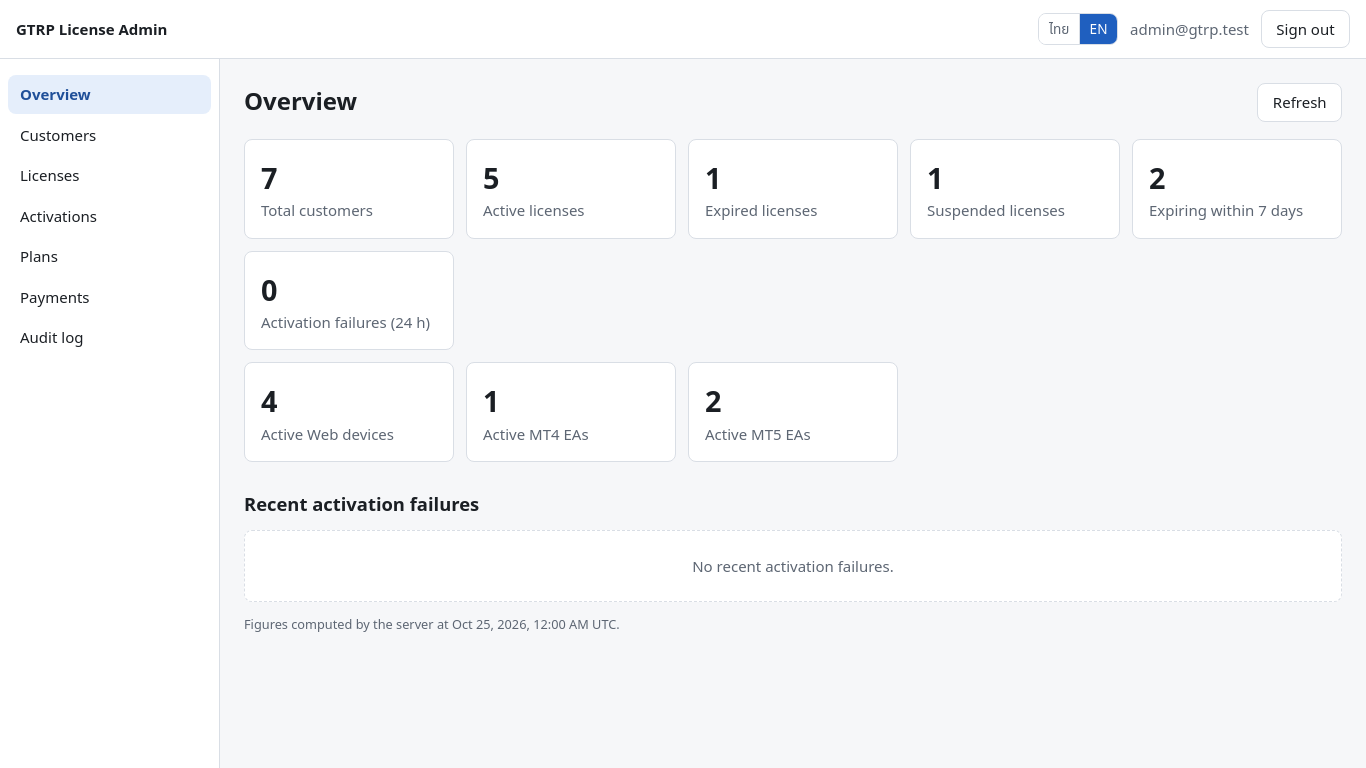
language switcher › switches the whole dashboard between English and Thai and remembers the choice
Expected: the heading "Overview" is shown, [244, 83, 357, 119]
Expected: the text "Total customers" is shown, [261, 200, 373, 220]
Step 1. Click the button "ไทย" → click(1059, 29), box [1039, 14, 1079, 44]
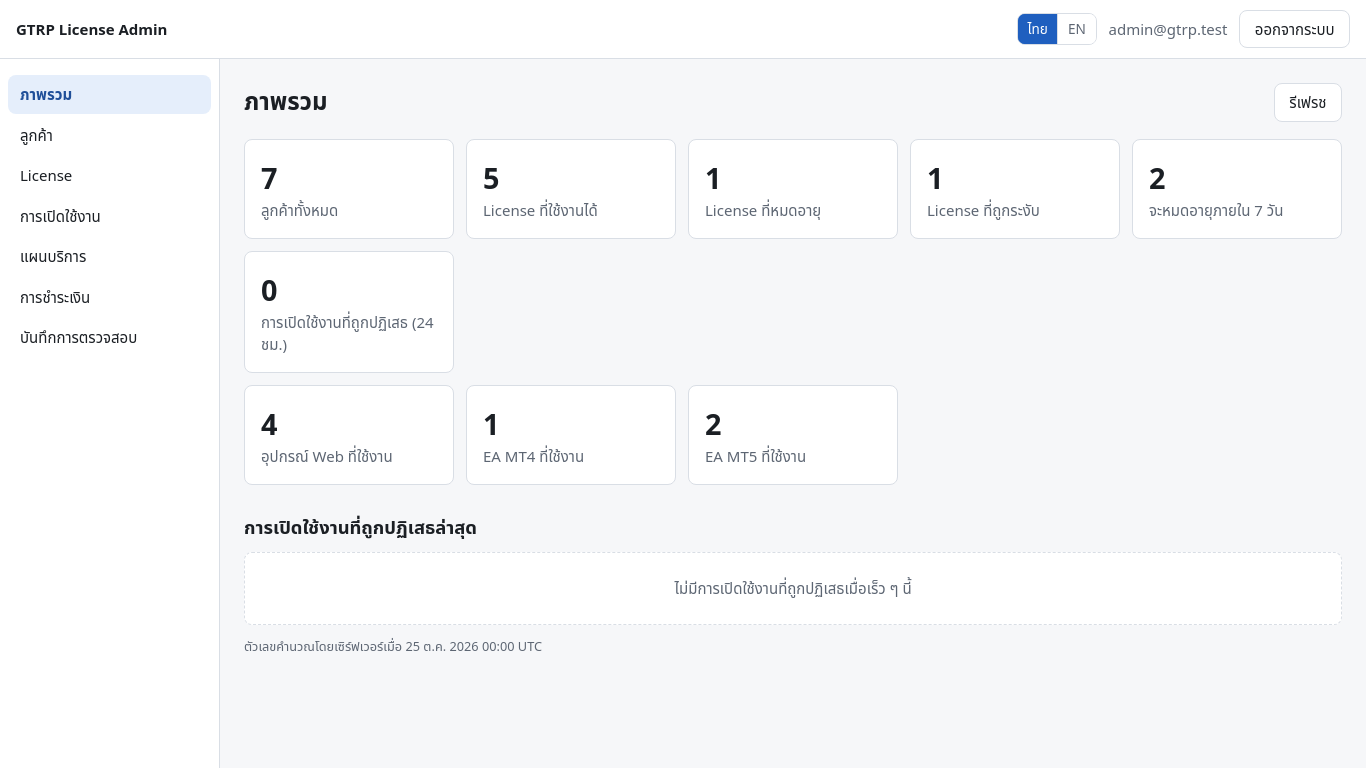
Result: the heading "ภาพรวม" is shown at [244, 83, 328, 119]
Result: the text "ลูกค้าทั้งหมด" is shown at [261, 200, 338, 220]
Result: the link "บันทึกการตรวจสอบ" is shown at [20, 327, 137, 347]
Step 2. Click the button "EN" → click(1077, 29), box [1058, 14, 1096, 44]
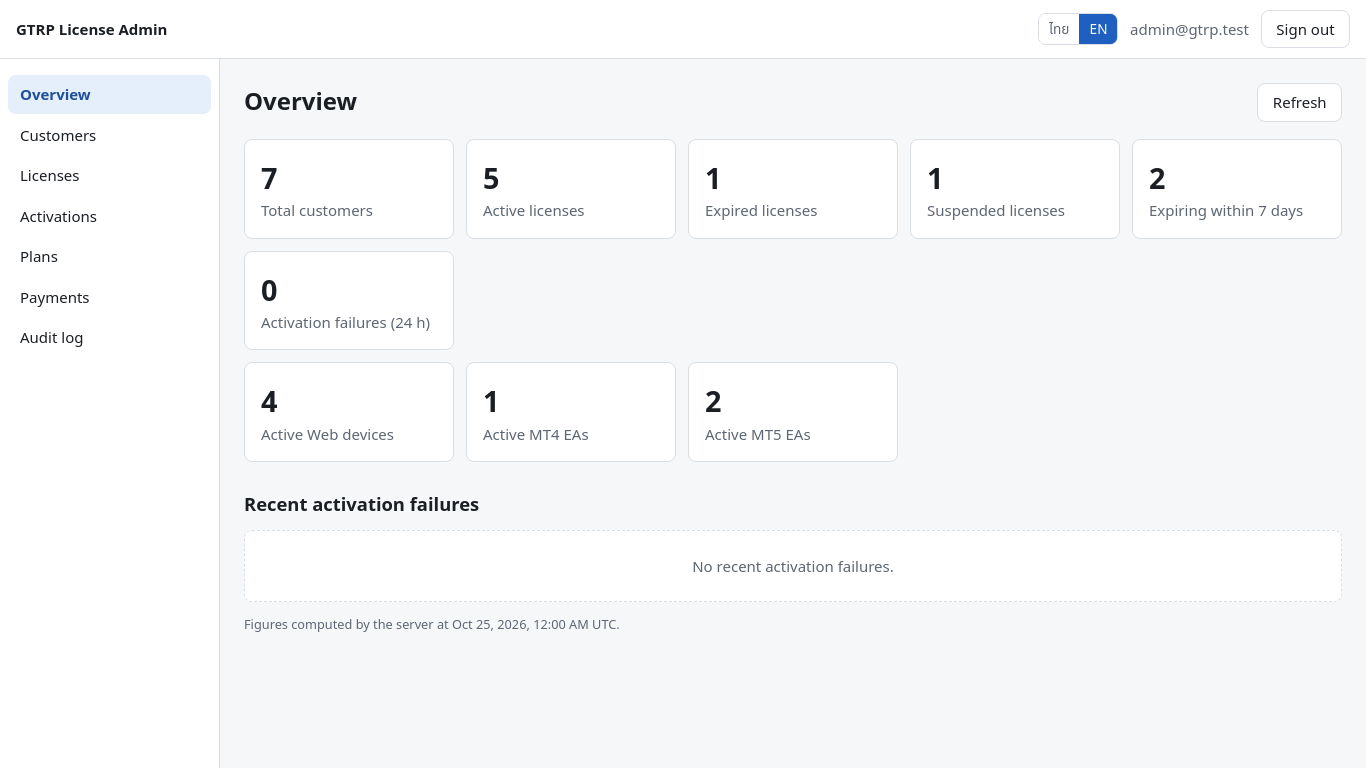
Result: the heading "Overview" is shown at [244, 83, 357, 119]
